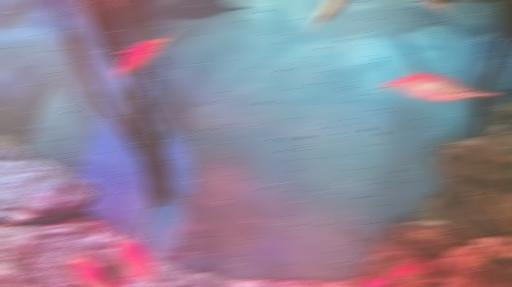Fish: (381, 68, 498, 101), (110, 32, 177, 80), (111, 231, 162, 286), (67, 250, 108, 286), (306, 0, 341, 32), (388, 264, 427, 286), (425, 0, 454, 18), (363, 277, 386, 286), (116, 0, 123, 8), (243, 0, 248, 2)
